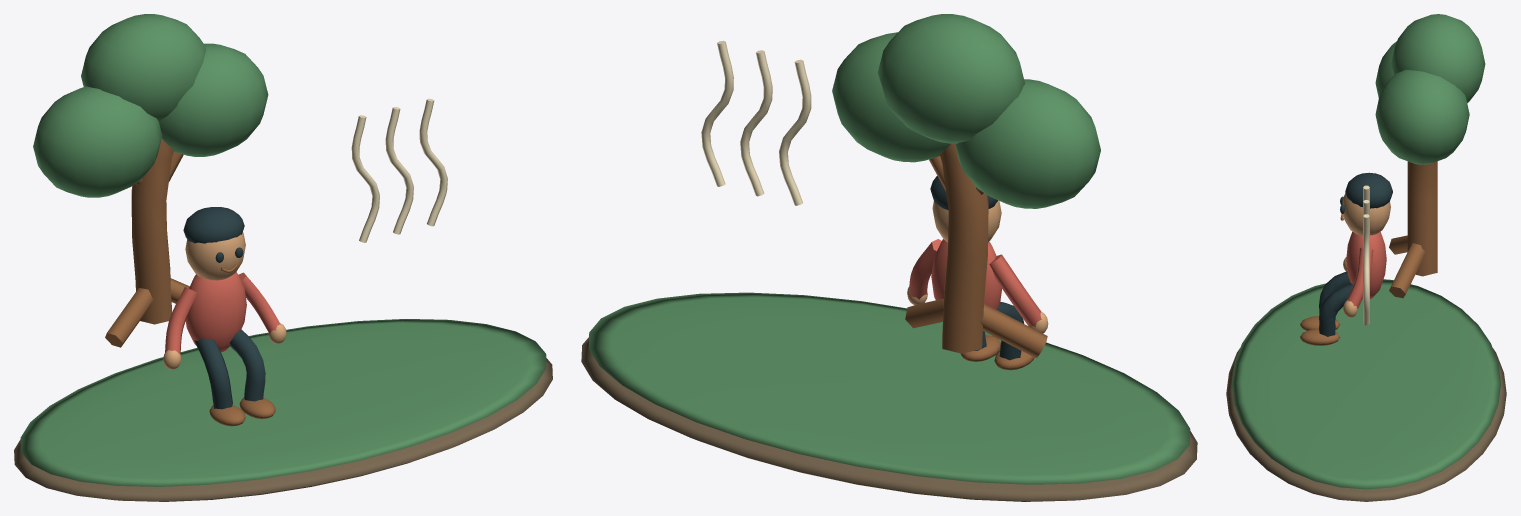
Rendered from rest-breath.glb.
3 renders of one model, left to right at view 1: azimuth 30°, elevation 25°; view 2: azimuth 150°, elevation 25°; view 3: azimuth 270°, elevation 25°, orthographic. The views are drawn at different scales.
Parts seen in each view (by area): view 1: rest-breath_surface_01, rest-breath_surface_00, rest-breath_surface_04, rest-breath_surface_05, rest-breath_surface_03, rest-breath_surface_06, rest-breath_surface_02; view 2: rest-breath_surface_01, rest-breath_surface_00, rest-breath_surface_04, rest-breath_surface_06, rest-breath_surface_05, rest-breath_surface_02, rest-breath_surface_03; view 3: rest-breath_surface_01, rest-breath_surface_04, rest-breath_surface_00, rest-breath_surface_03, rest-breath_surface_05, rest-breath_surface_02, rest-breath_surface_06.
Boxes of the visible parts, left/top/right/bottom form: rest-breath_surface_01: left=20, top=14, right=546, bottom=486; rest-breath_surface_00: left=14, top=358, right=552, bottom=501; rest-breath_surface_04: left=105, top=138, right=275, bottom=426; rest-breath_surface_05: left=165, top=272, right=280, bottom=353; rest-breath_surface_03: left=183, top=207, right=265, bottom=409; rest-breath_surface_06: left=351, top=98, right=447, bottom=242; rest-breath_surface_02: left=163, top=232, right=286, bottom=369; rest-breath_surface_01: left=588, top=14, right=1190, bottom=484; rest-breath_surface_00: left=581, top=337, right=1197, bottom=501; rest-breath_surface_04: left=905, top=143, right=1047, bottom=370; rest-breath_surface_06: left=701, top=40, right=811, bottom=205; rest-breath_surface_05: left=909, top=239, right=1041, bottom=327; rest-breath_surface_02: left=907, top=200, right=1048, bottom=333; rest-breath_surface_03: left=930, top=176, right=1024, bottom=360; rest-breath_surface_01: left=1232, top=14, right=1500, bottom=489; rest-breath_surface_04: left=1300, top=161, right=1437, bottom=345; rest-breath_surface_00: left=1226, top=348, right=1506, bottom=501; rest-breath_surface_03: left=1319, top=172, right=1392, bottom=336; rest-breath_surface_05: left=1346, top=231, right=1386, bottom=308; rest-breath_surface_02: left=1342, top=193, right=1390, bottom=317; rest-breath_surface_06: left=1363, top=185, right=1369, bottom=325.
Bounding box in the file's own units: 4.56 × 3.41 × 2.5.
